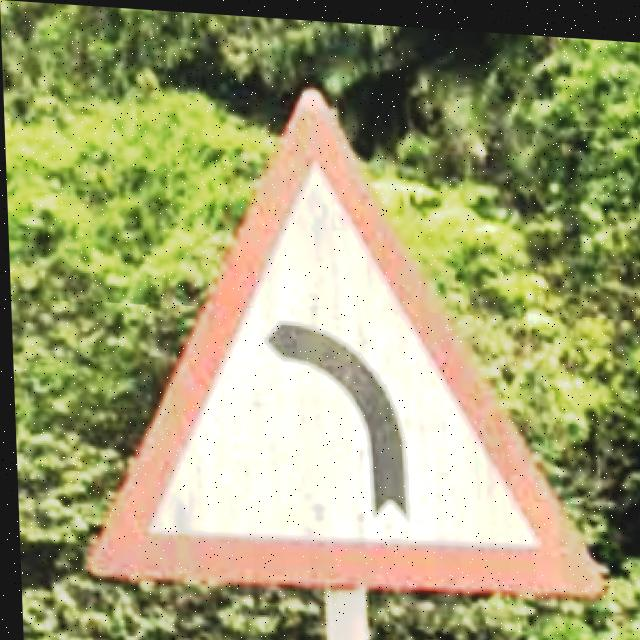leftbend: (83, 85, 601, 591)
